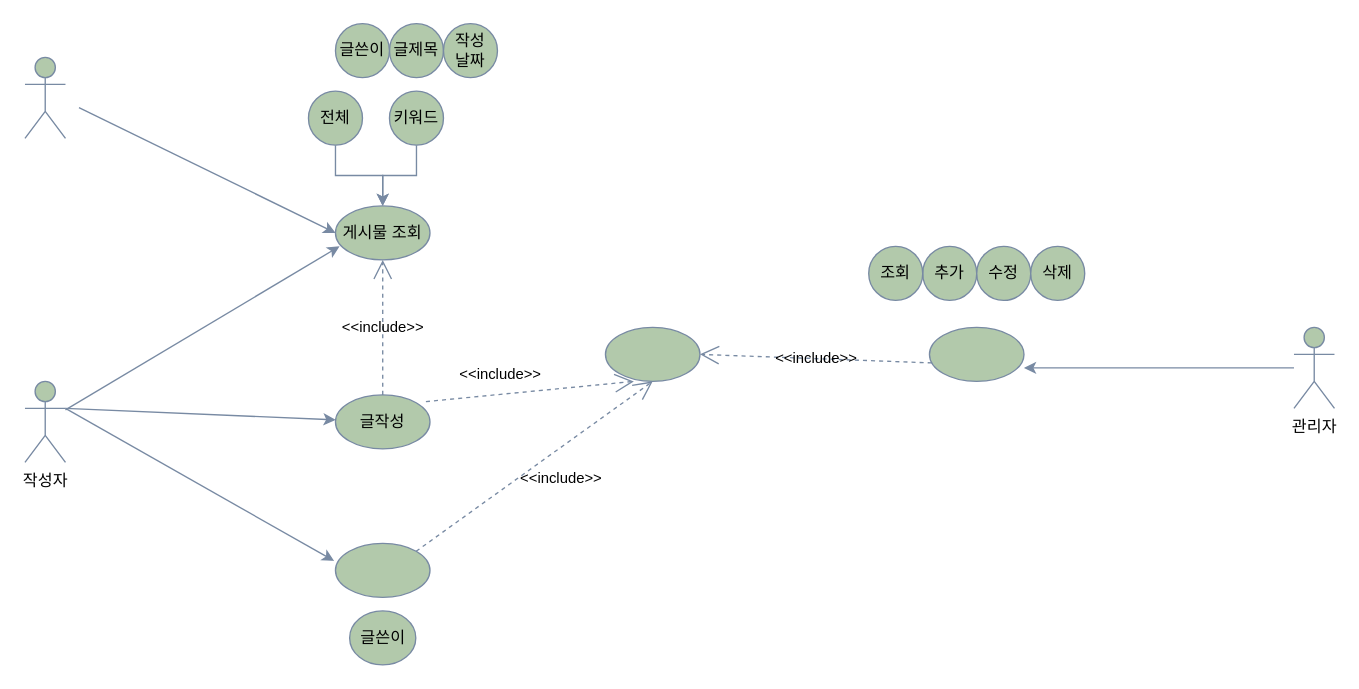
Image size: 1359x689. Some labels were removed from this diagram. The shapes that lost their labels are listed below. From the top down, each one's box as (x1, y1, x2, y2) in pixels, then its label:
(24, 56, 65, 138): 열람자
(604, 326, 700, 381): 인증
(928, 326, 1024, 381): 게시물 관리
(334, 542, 430, 597): 나의정보
